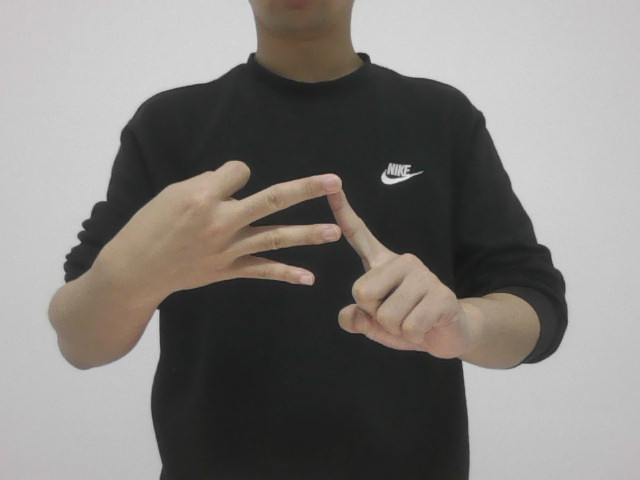name: (131, 158, 480, 371)
